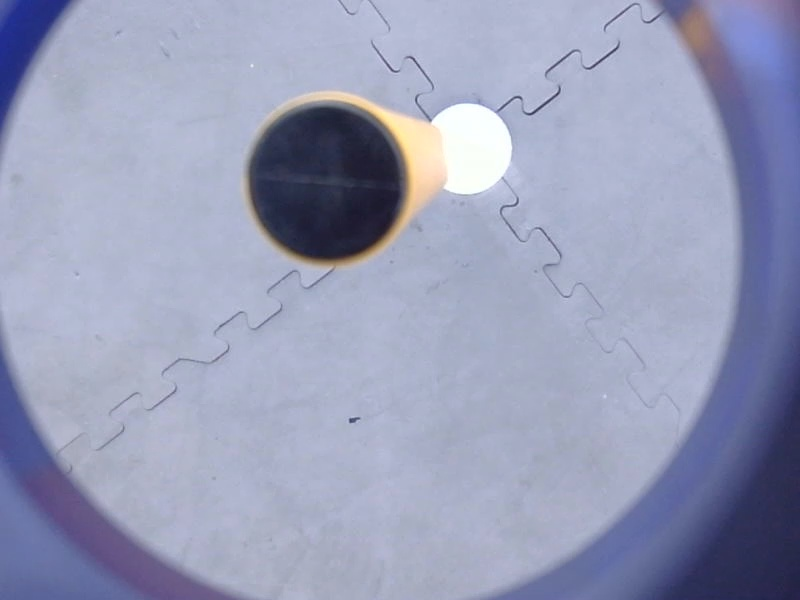tip: (232, 78, 425, 280)
